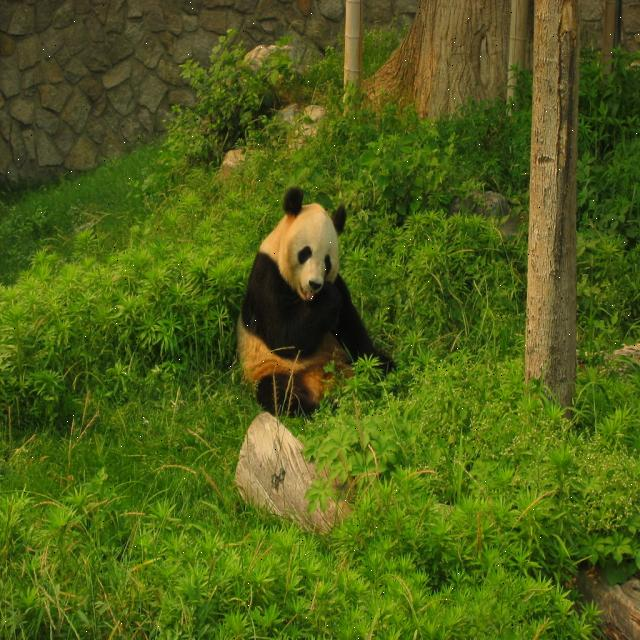panda: (235, 185, 400, 416)
